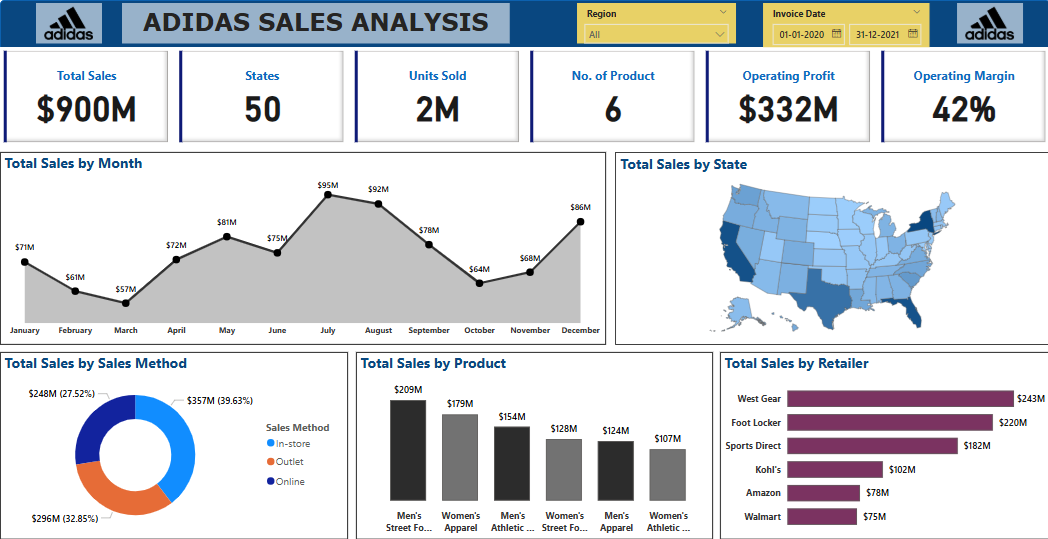

The page's visual inventory and layout, read from the dashboard file:
{"tool":"powerbi","page":{"name":"Page 1","canvas":[1400,720],"ordinal":0},"visuals":[{"type":"shape","box":[0,0,1400.5,73.2],"z":0},{"type":"cardVisual","fields":{"Data":["Sum(Data Sales Adidas.Total Sales)","Data Sales Adidas.States","Sum(Data Sales Adidas.Units Sold)","Data Sales Adidas.No. of Product","Sum(Data Sales Adidas.Operating Profit)","Avg(Data Sales Adidas.Operating Margin)"]},"box":[0,63.2,1400,132.5],"z":1000},{"type":"areaChart","title":"Total Sales by Month","fields":{"Category":["Data Sales Adidas.Invoice Date.Variation.Date Hierarchy.Month"],"Y":["Sum(Data Sales Adidas.Total Sales)"]},"box":[0,203.2,808.4,257.4],"z":2000},{"type":"shapeMap","title":"Total Sales by State","fields":{"Category":["Data Sales Adidas.State"],"Value":["Sum(Data Sales Adidas.Total Sales)"]},"box":[820.4,203.2,579.6,257.4],"z":3000},{"type":"barChart","title":"Total Sales by Retailer","fields":{"Y":["Sum(Data Sales Adidas.Total Sales)"],"Category":["Data Sales Adidas.Retailer"]},"box":[960.4,469.7,439.6,249.9],"z":4000},{"type":"slicer","fields":{"Values":["Data Sales Adidas.Region"]},"box":[769.8,4.4,212.2,54.1],"z":5000},{"type":"slicer","fields":{"Values":["Data Sales Adidas.Invoice Date"]},"box":[1017.1,4.4,222.4,58.5],"z":6000},{"type":"textbox","box":[162.4,4.4,516.6,54.1],"z":7000},{"type":"image","box":[1276.1,4.4,87.8,54.1],"z":8000},{"type":"image","box":[48.3,4.4,87.8,54.1],"z":9000},{"type":"donutChart","title":"Total Sales by Sales Method","fields":{"Y":["Sum(Data Sales Adidas.Total Sales)"],"Category":["Data Sales Adidas.Sales Method"]},"box":[0,469.7,463.7,249.9],"z":10000},{"type":"clusteredColumnChart","title":"Total Sales by Product","fields":{"Category":["Data Sales Adidas.Product"],"Y":["Sum(Data Sales Adidas.Total Sales)"]},"box":[474.1,469.8,475.6,250.2],"z":11000}]}

Visuals, with their boxes in screenshot pixels (x1, y1, x2, y2), scaled from the page's 1400x720 canvas onto the 1048x539 screenshot:
shape: <bbox>0, 0, 1047, 55</bbox>
cardVisual - Sum(Data Sales Adidas.Total Sales) x Data Sales Adidas.States: <bbox>0, 47, 1047, 147</bbox>
"Total Sales by Month" areaChart: <bbox>0, 152, 605, 345</bbox>
"Total Sales by State" shapeMap: <bbox>614, 152, 1047, 345</bbox>
"Total Sales by Retailer" barChart: <bbox>719, 352, 1047, 538</bbox>
slicer - Data Sales Adidas.Region: <bbox>576, 3, 735, 44</bbox>
slicer - Data Sales Adidas.Invoice Date: <bbox>761, 3, 928, 47</bbox>
textbox: <bbox>122, 3, 508, 44</bbox>
image: <bbox>955, 3, 1021, 44</bbox>
image: <bbox>36, 3, 102, 44</bbox>
"Total Sales by Sales Method" donutChart: <bbox>0, 352, 347, 538</bbox>
"Total Sales by Product" clusteredColumnChart: <bbox>355, 352, 711, 538</bbox>
